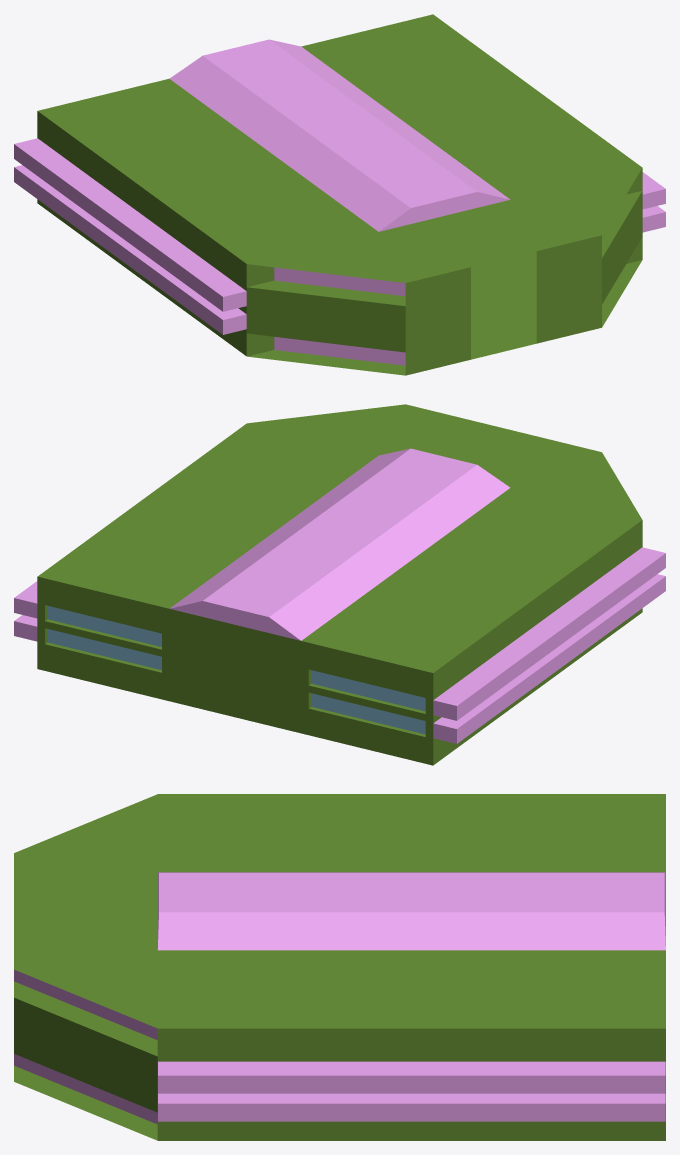
File: MotherShip.fbx
3 views of the same model, one above another, from view 1: azimuth 30°, elevation 25°; view 2: azimuth 150°, elevation 25°; view 3: azimuth 270°, elevation 25° (orthographic). The views are drawn at different scales.
Visible parts, largest first — view 1: Cube; view 2: Cube; view 3: Cube.
Boxes of the visible parts, bbox=[...] form: Cube: bbox=[14, 14, 665, 375]; Cube: bbox=[14, 404, 665, 765]; Cube: bbox=[14, 794, 665, 1140].
Bounding box in the file's own units: 7915 × 1843 × 8312.
